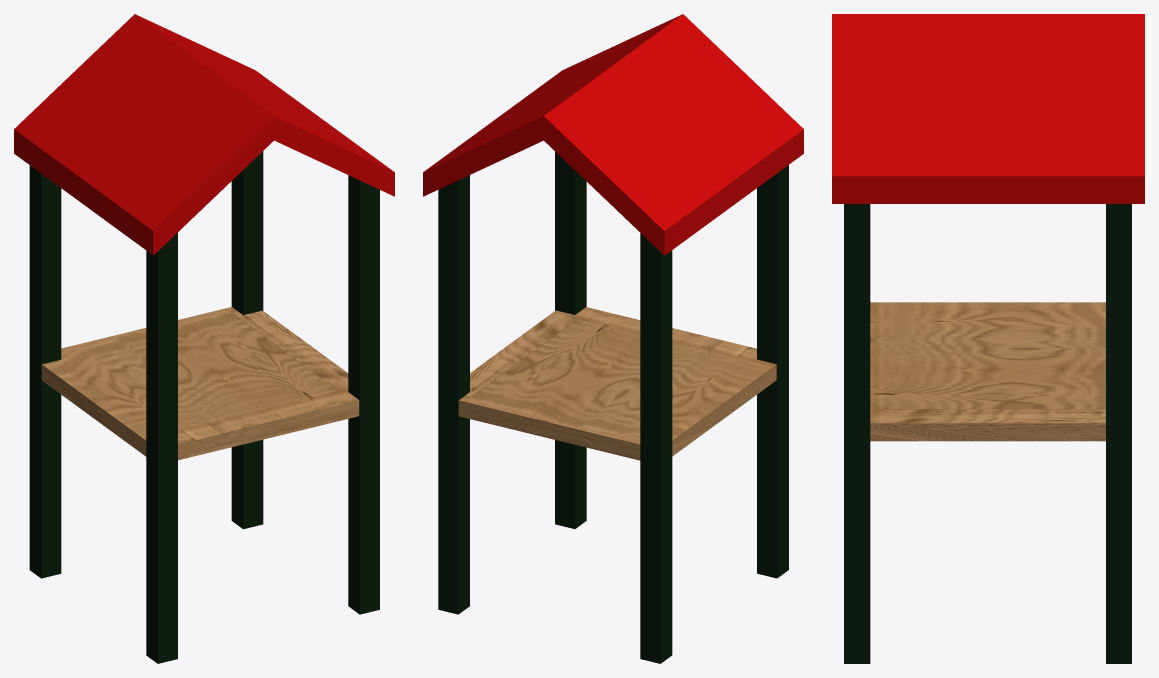
File: playground_towerobj.obj
3 renders of one model, left to right at view 1: azimuth 30°, elevation 25°; view 2: azimuth 150°, elevation 25°; view 3: azimuth 270°, elevation 25°, orthographic. The views are drawn at different scales.
Parts seen in each view (by area): view 1: Cube.004; view 2: Cube.004; view 3: Cube.004.
Boxes of the visible parts, box(x1,y1,x2,y2) form: Cube.004: box(14, 14, 394, 663); Cube.004: box(423, 14, 803, 663); Cube.004: box(832, 14, 1144, 663).
Size of the model in its own units: 0.5227 by 1.09 by 0.5227.
